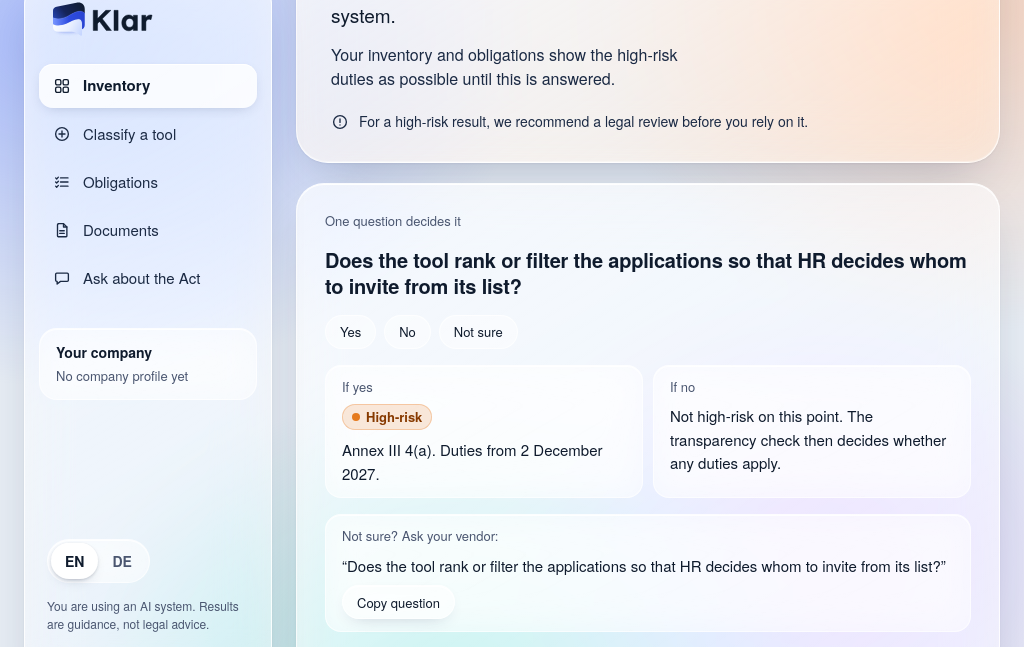
Scenario: Answering the question that decides a result › names the run and where the checks stand when the re-run still waits (en)
(page scrolled)
What coordinates should you click on to do the following:
click the button "No"
I would click on:
 (408, 332)
Its box is top-left (384, 315), bottom-right (431, 349).
(page scrolled)
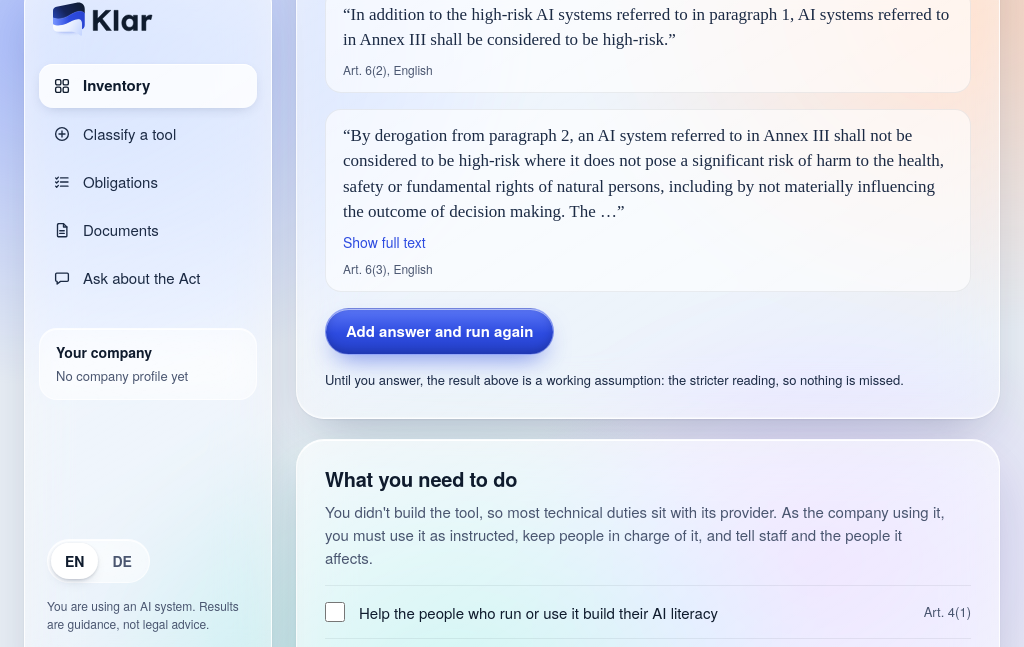
What coordinates should you click on to do the following:
click the button "Add answer and run again"
I would click on:
 (440, 331)
Its box is top-left (325, 308), bottom-right (554, 355).
(page scrolled)
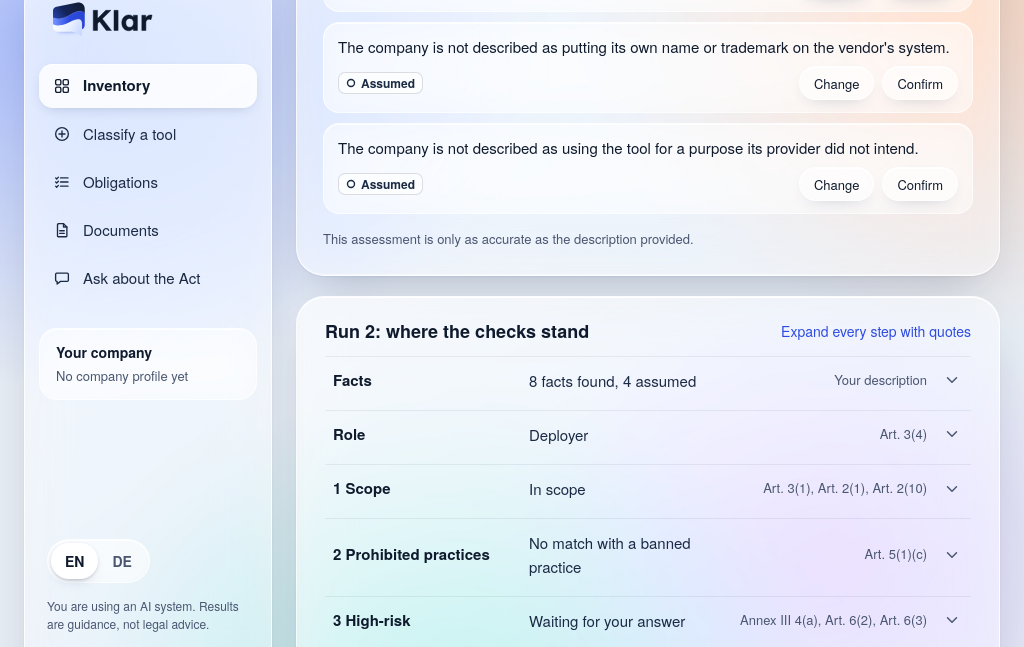
expect the heading "Run 2: where the checks stand" is shown: met, box top-left (325, 319), bottom-right (589, 344)
